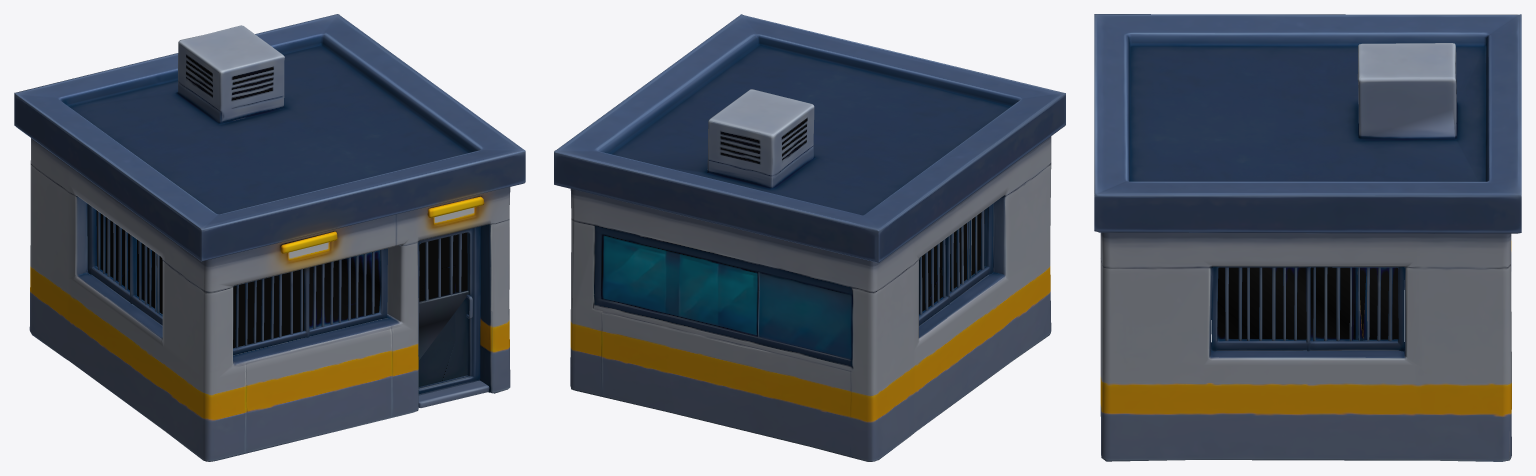
The model's file is gatehouse.glb.
The picture shows the model from 3 angles, left to right: view 1: azimuth 30°, elevation 25°; view 2: azimuth 150°, elevation 25°; view 3: azimuth 270°, elevation 25°; orthographic projection. The views are drawn at different scales.
Parts seen in each view (by area): view 1: geometry_0; view 2: geometry_0; view 3: geometry_0.
Boxes of the visible parts, box(x1,y1,x2,y2) form: geometry_0: box(14, 14, 525, 461); geometry_0: box(554, 14, 1065, 461); geometry_0: box(1094, 14, 1521, 461).
Size of the model in its own units: 1 by 0.8257 by 1.
Materials: 1 (1 with a texture image).
